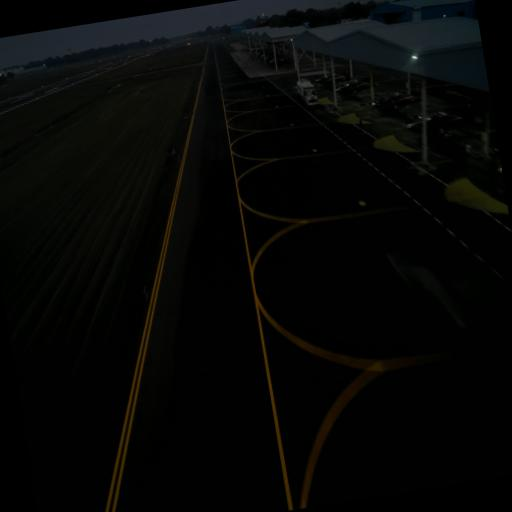on: (172, 147, 174, 152)
